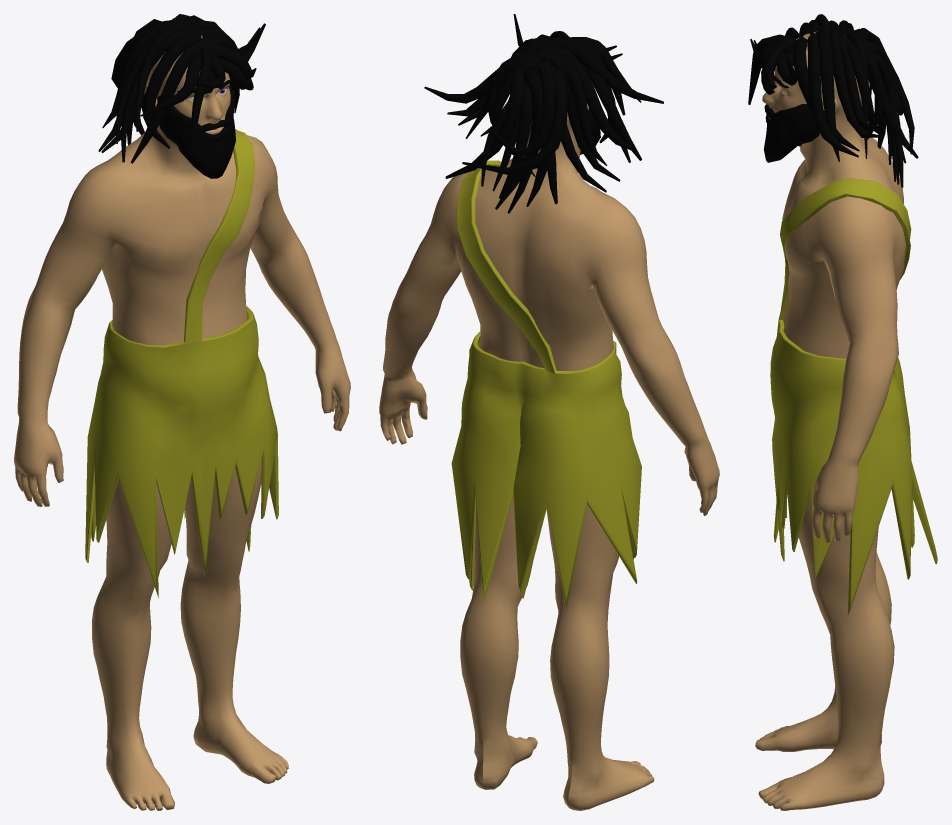
File: Character1.fbx
3 views of the same model, side by side, from view 1: azimuth 30°, elevation 25°; view 2: azimuth 150°, elevation 25°; view 3: azimuth 270°, elevation 25° (orthographic).
Visible parts, largest first — view 1: Character, BaseCloth, HairAndBeard; view 2: Character, BaseCloth, HairAndBeard; view 3: Character, BaseCloth, HairAndBeard.
Part boxes in pixels (bbox=[...]): Character: bbox=[14, 35, 350, 810]; BaseCloth: bbox=[85, 129, 278, 598]; HairAndBeard: bbox=[98, 14, 265, 178]; Character: bbox=[379, 85, 719, 810]; BaseCloth: bbox=[451, 160, 641, 609]; HairAndBeard: bbox=[424, 14, 663, 213]; Character: bbox=[755, 31, 905, 810]; BaseCloth: bbox=[770, 178, 937, 614]; HairAndBeard: bbox=[748, 14, 918, 187].
Size of the model in its own units: 0.8414 by 1.83 by 0.4187.
